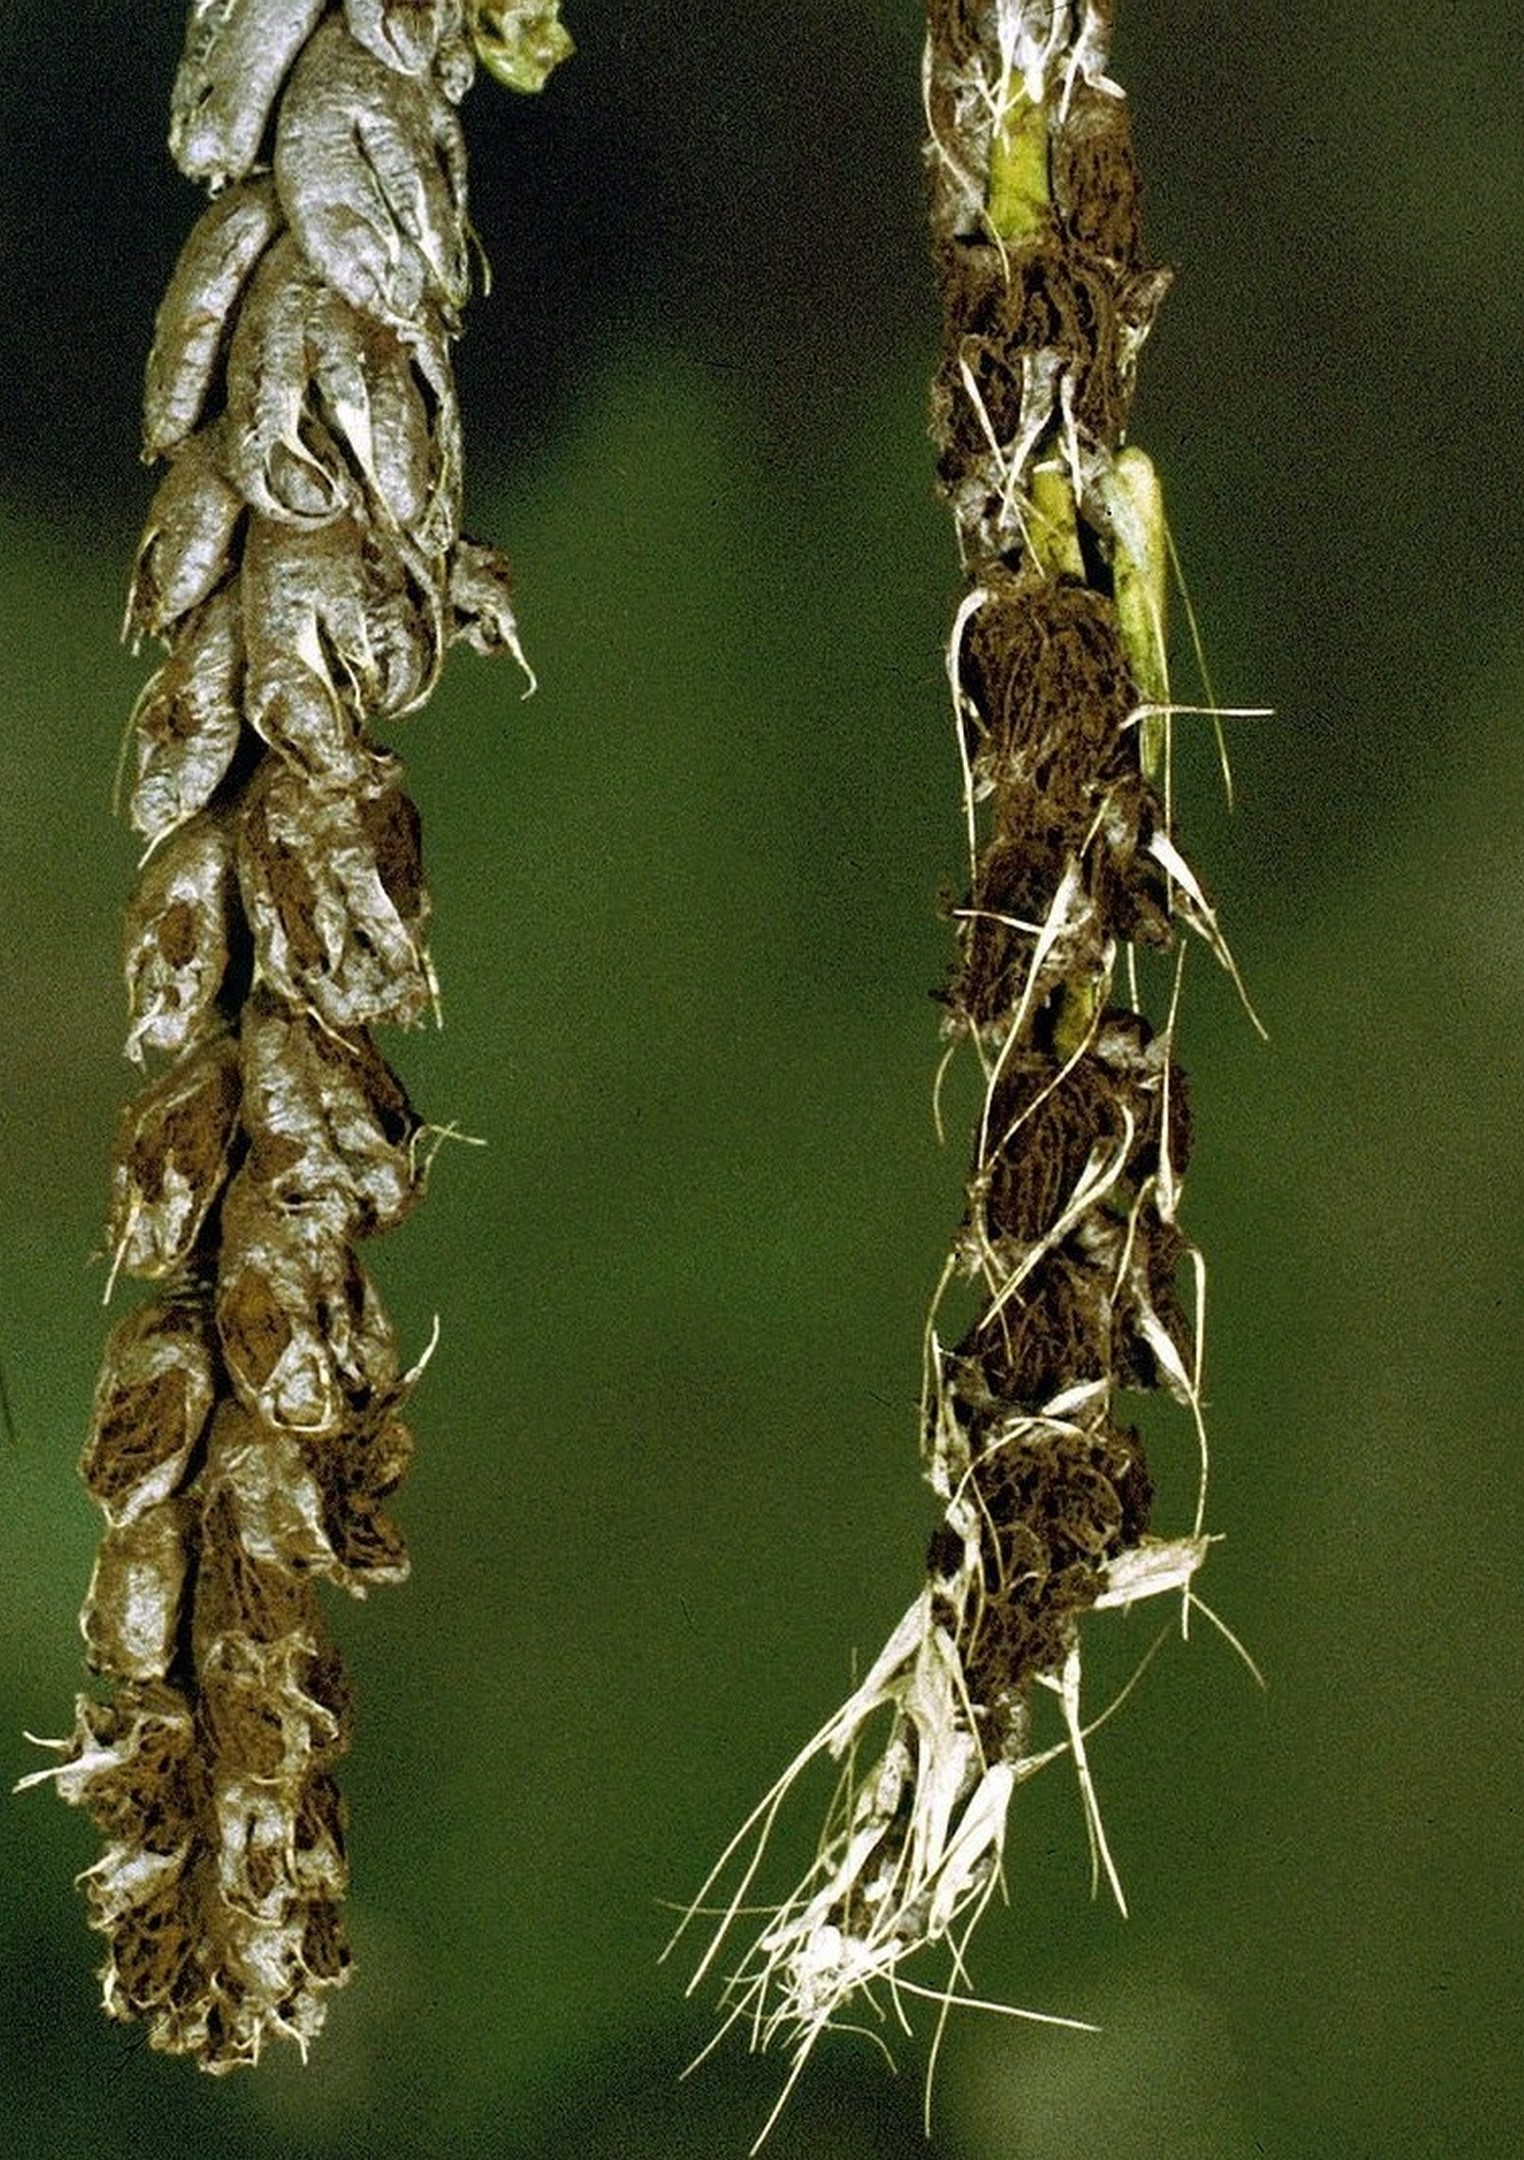Wheat Loose Smut: (36, 2, 521, 1965), (777, 5, 1262, 1913)
